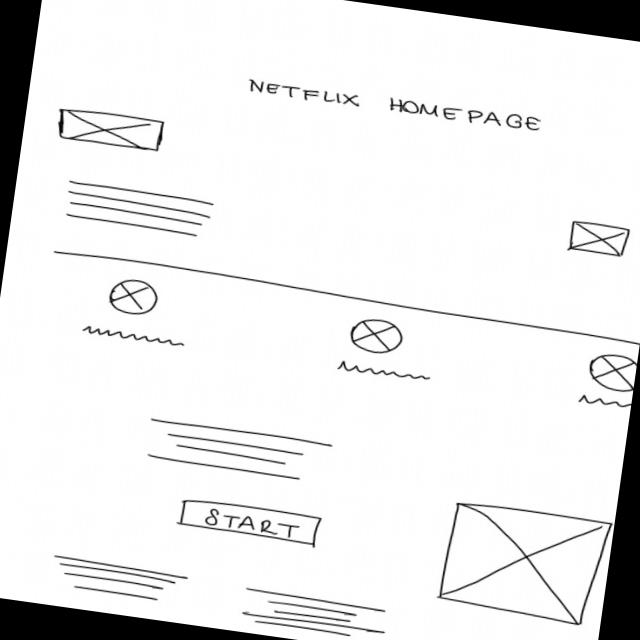button: (176, 496, 324, 550)
image: (437, 499, 616, 631), (55, 105, 167, 156), (566, 219, 633, 263), (348, 316, 407, 359), (106, 277, 163, 320), (586, 350, 639, 396)
label: (245, 77, 546, 136)
text: (335, 360, 436, 387), (82, 326, 189, 351), (576, 393, 633, 416)
textbox: (143, 416, 337, 488), (62, 178, 219, 243), (233, 582, 395, 640), (49, 552, 195, 610)
